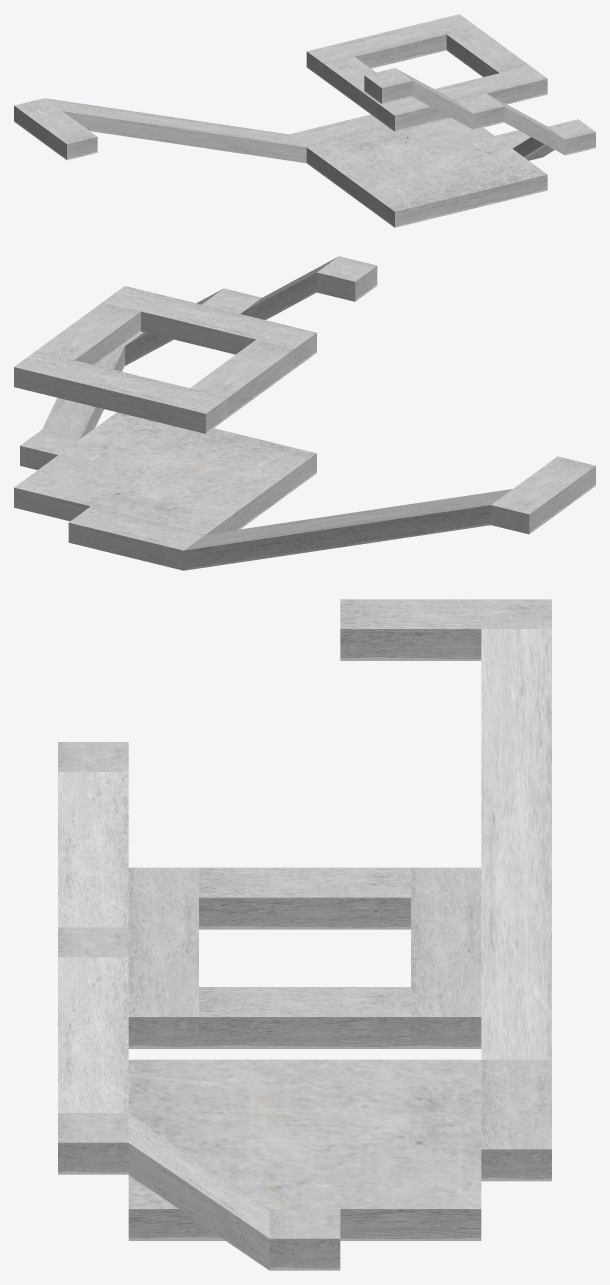
The model's file is basement_map.fbx.
The picture shows the model from 3 angles, top to bottom: view 1: azimuth 30°, elevation 25°; view 2: azimuth 150°, elevation 25°; view 3: azimuth 270°, elevation 25°; orthographic projection. The views are drawn at different scales.
Parts seen in each view (by area): view 1: polySurface30, polySurface28, polySurface17, polySurface19, polySurface21, polySurface18, polySurface20, polySurface27, polySurface23, polySurface22, polySurface25, polySurface24 (+3 smaller); view 2: polySurface30, polySurface28, polySurface17, polySurface19, polySurface27, polySurface21, polySurface20, polySurface18, polySurface31, polySurface23, polySurface22, polySurface29 (+2 smaller); view 3: polySurface30, polySurface28, polySurface20, polySurface18, polySurface17, polySurface19, polySurface22, polySurface25, polySurface21, polySurface31, polySurface27, polySurface29 (+3 smaller).
Part boxes in pixels (x1,y1,x2,y2): polySurface30: [306, 118, 547, 227]; polySurface28: [45, 98, 306, 163]; polySurface17: [306, 14, 476, 79]; polySurface19: [377, 66, 547, 131]; polySurface21: [14, 98, 97, 160]; polySurface18: [446, 27, 529, 76]; polySurface20: [324, 57, 379, 118]; polySurface27: [289, 114, 387, 146]; polySurface23: [364, 68, 412, 104]; polySurface22: [396, 68, 473, 129]; polySurface25: [488, 94, 565, 154]; polySurface24: [456, 93, 504, 129]; polySurface30: [14, 412, 316, 534]; polySurface28: [184, 489, 512, 570]; polySurface17: [14, 351, 228, 433]; polySurface19: [103, 286, 316, 368]; polySurface27: [68, 506, 205, 570]; polySurface21: [491, 456, 595, 534]; polySurface20: [190, 339, 294, 417]; polySurface18: [36, 302, 140, 364]; polySurface31: [42, 345, 124, 438]; polySurface23: [317, 256, 377, 301]; polySurface22: [240, 257, 337, 319]; polySurface29: [20, 429, 79, 469]; polySurface30: [128, 1059, 481, 1240]; polySurface28: [481, 629, 551, 1059]; polySurface20: [199, 867, 410, 929]; polySurface18: [199, 987, 410, 1048]; polySurface17: [411, 867, 481, 1048]; polySurface19: [128, 867, 198, 1048]; polySurface22: [58, 772, 128, 927]; polySurface25: [58, 957, 128, 1112]; polySurface21: [340, 599, 551, 660]; polySurface31: [128, 1113, 269, 1270]; polySurface27: [481, 1059, 551, 1181]; polySurface29: [269, 1209, 340, 1270].
Bounding box in the file's own units: 60 × 20 × 28.
Materials: 1 (1 with a texture image).
